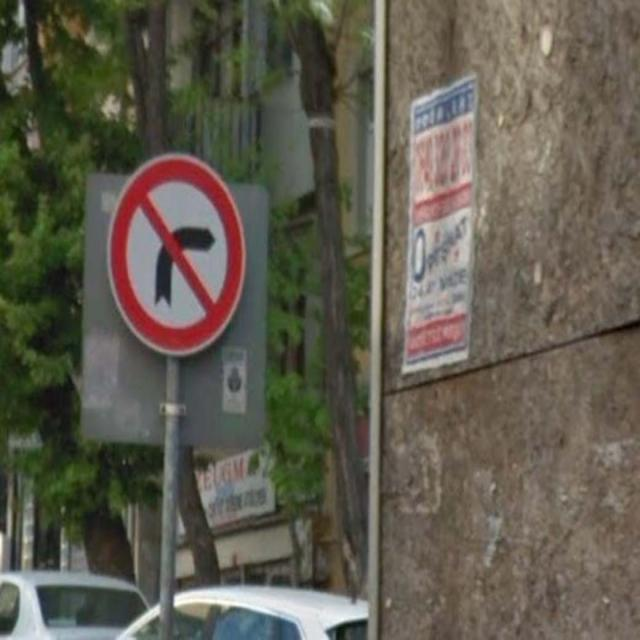sagadonulmez: (107, 151, 245, 355)
